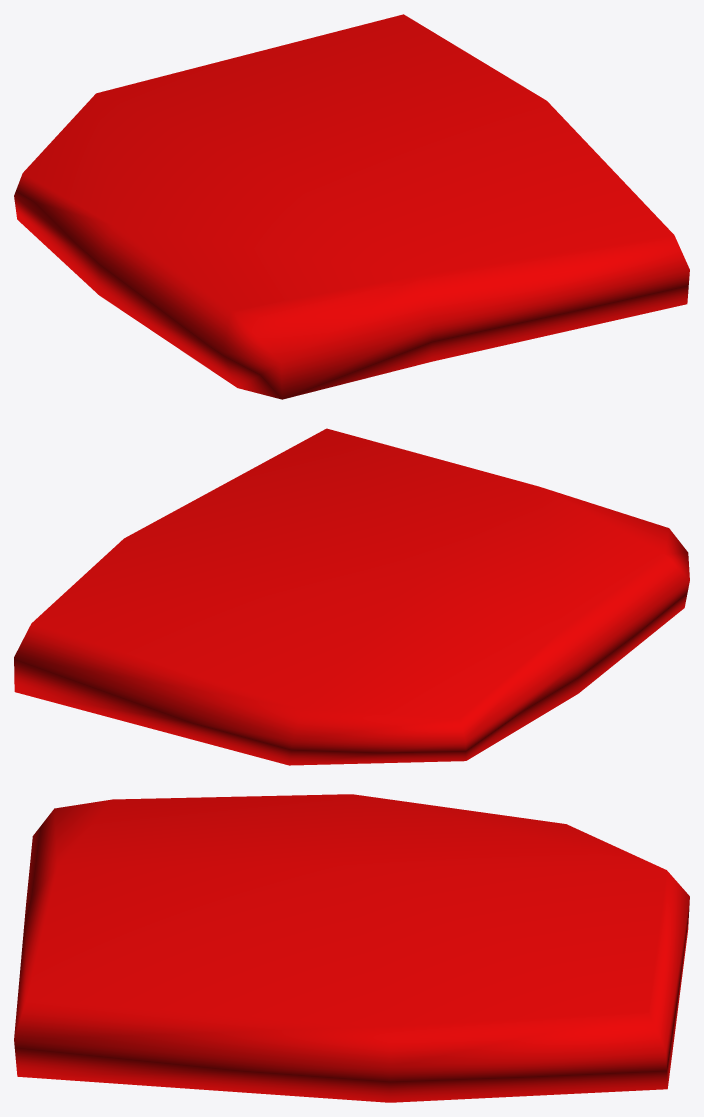
File: Concrete_Block_05.fbx
3 renders of one model, top to bottom at view 1: azimuth 30°, elevation 25°; view 2: azimuth 150°, elevation 25°; view 3: azimuth 270°, elevation 25°, orthographic. The views are drawn at different scales.
Visible parts, largest first — view 1: Concrete_Block_05; view 2: Concrete_Block_05; view 3: Concrete_Block_05.
Boxes of the visible parts, bbox=[...] form: Concrete_Block_05: bbox=[14, 14, 689, 399]; Concrete_Block_05: bbox=[14, 428, 689, 765]; Concrete_Block_05: bbox=[14, 794, 689, 1102].
Bounding box in the file's own units: 117 × 19.57 × 135.
